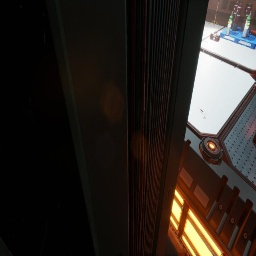0: (242, 12, 251, 37), (243, 11, 251, 35), (226, 11, 233, 35)
FireExtinguisher ]: (248, 28, 256, 36), (254, 83, 256, 89)
FirstAidBox ,: (210, 31, 220, 42)
NitrogenTank ,: (240, 3, 252, 32), (232, 3, 243, 31), (231, 1, 239, 29), (239, 1, 243, 7)
